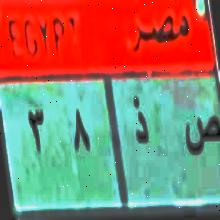3: (26, 106, 48, 162)
8: (71, 108, 93, 166)
saad: (183, 112, 220, 157)
zaal: (131, 96, 153, 158)
